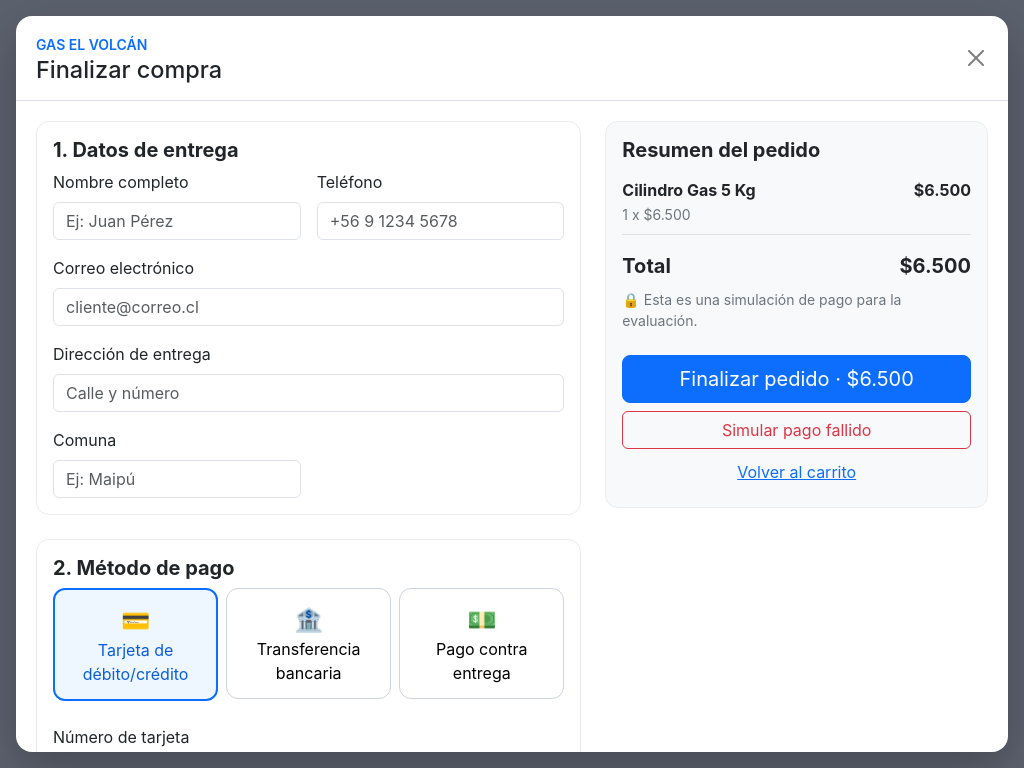
Gas El Volcan - pruebas unitarias › 23. Checkout contiene un flujo demostrativo de pago fallido
The width and height of the screenshot is (1024, 768).
Click the button "Simular pago fallido" at (797, 430), box [622,411,971,449]
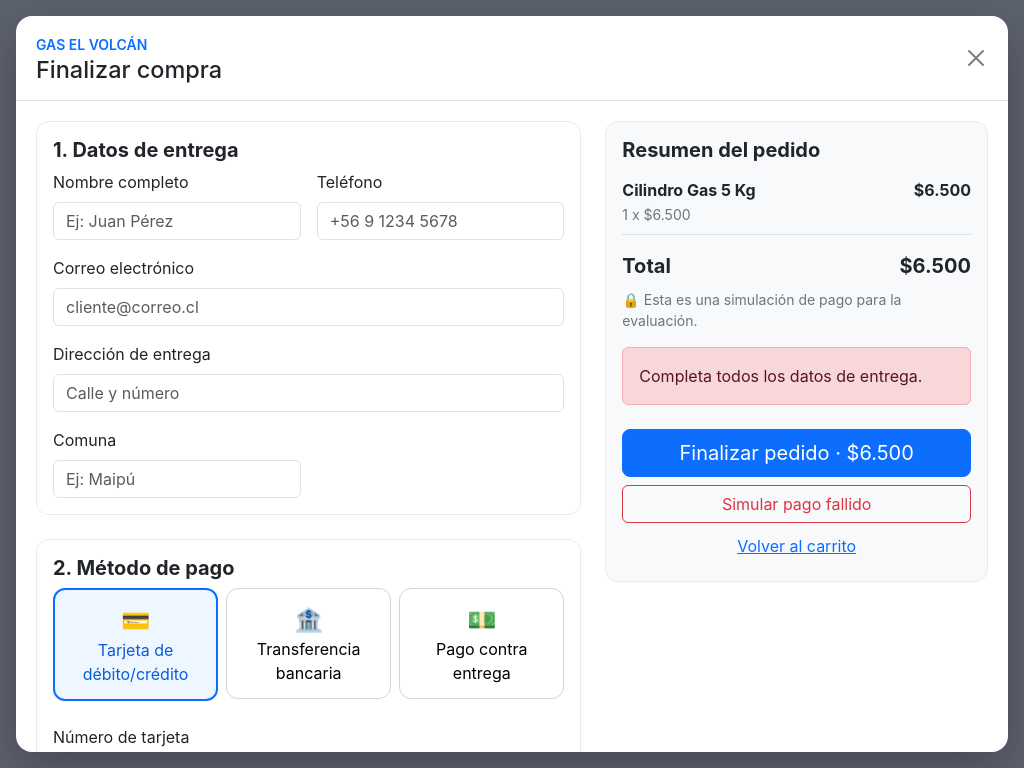
Expected: the text "Completa todos los datos de entrega." is shown, [622,347,971,405]
